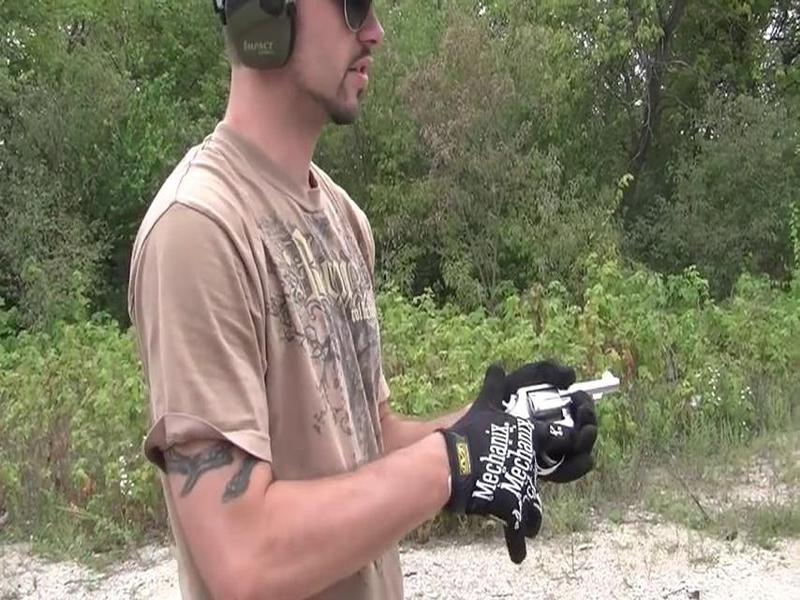Revolver: (467, 356, 646, 459)
